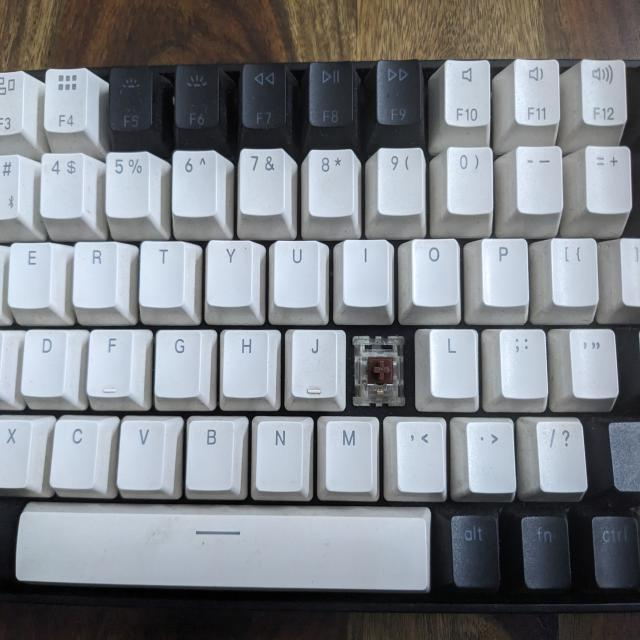C: (351, 330, 405, 408)
